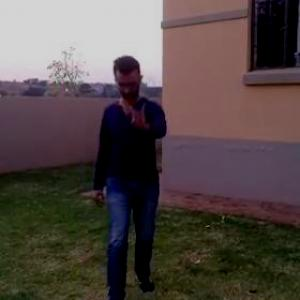takeoff-hand: (126, 94, 154, 132)
